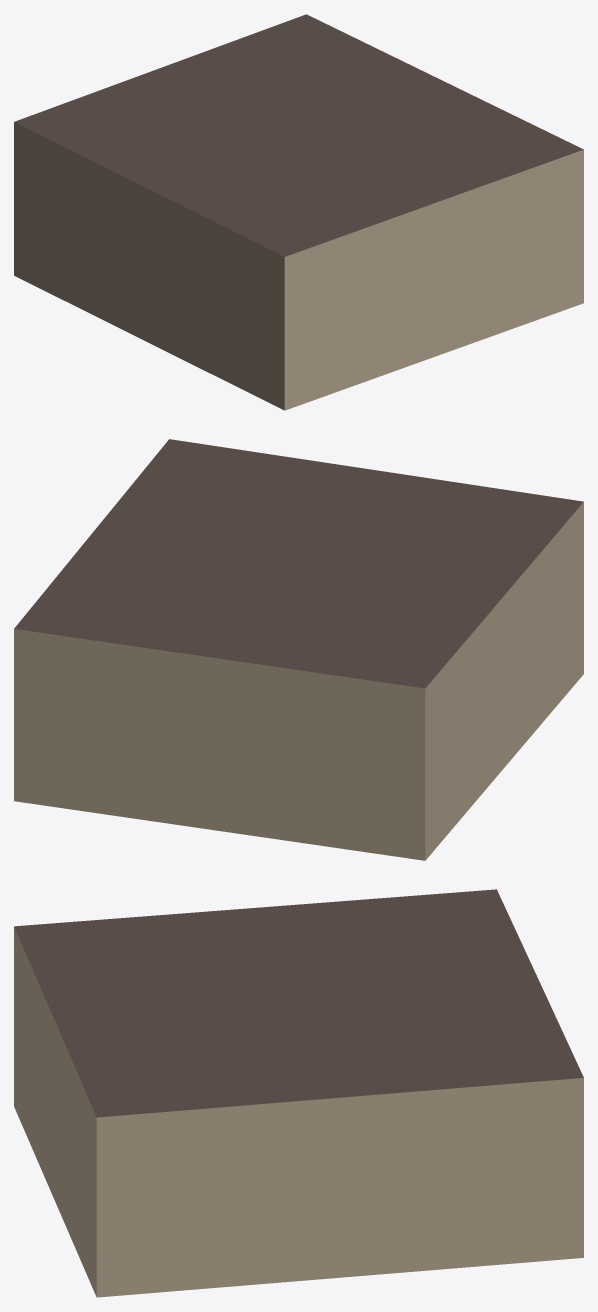
The picture shows the model from 3 angles, top to bottom: view 1: azimuth 30°, elevation 25°; view 2: azimuth 150°, elevation 25°; view 3: azimuth 270°, elevation 25°; orthographic projection. The views are drawn at different scales.
Visible parts, largest first — view 1: HP-w1518592750; view 2: HP-w1518592750; view 3: HP-w1518592750.
Part boxes in pixels (x1=…): HP-w1518592750: x1=14, y1=14, x2=583, y2=410; HP-w1518592750: x1=14, y1=439, x2=583, y2=860; HP-w1518592750: x1=14, y1=889, x2=583, y2=1297.
Bounding box in the file's own units: 24.46 × 9 × 25.82.
